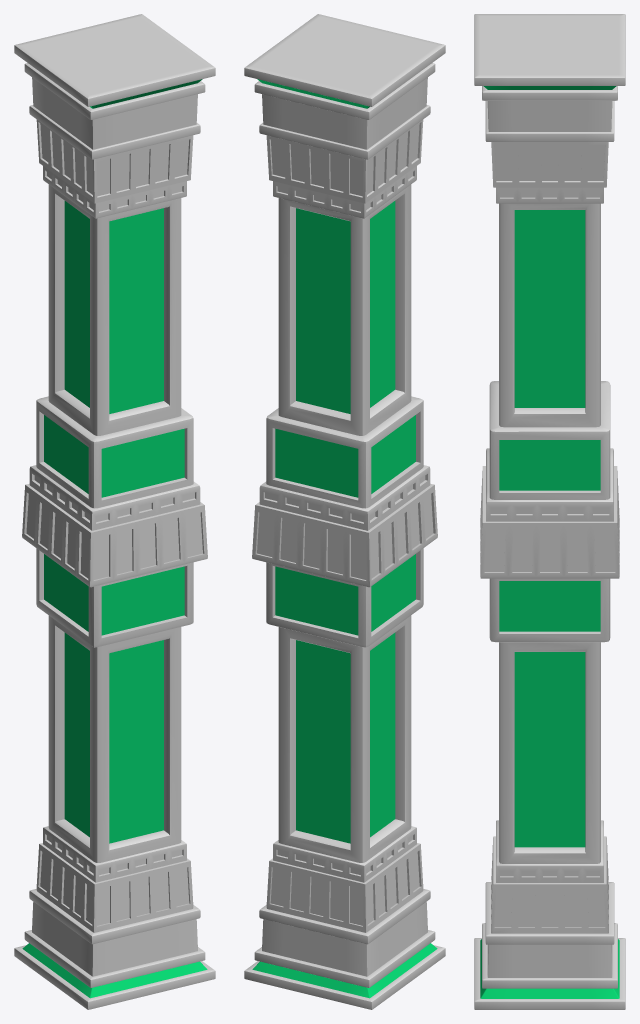
File: pillar.fbx
The picture shows the model from 3 angles, left to right: view 1: azimuth 30°, elevation 25°; view 2: azimuth 150°, elevation 25°; view 3: azimuth 270°, elevation 25°; orthographic projection. The views are drawn at different scales.
Parts seen in each view (by area): view 1: Box003, Object004, Object001; view 2: Box003, Object004, Object001; view 3: Box003, Object004, Object001.
Boxes of the visible parts, x1,y1,x2,y2 form: Box003: (36,184,193,862); Object004: (14,14,215,1009); Object001: (22,465,207,587); Box003: (266,184,423,862); Object004: (244,14,445,1009); Object001: (252,465,437,587); Box003: (489,203,610,863); Object004: (474,14,625,1009); Object001: (480,448,619,578).
Size of the model in its own units: 131 by 131 by 889.
